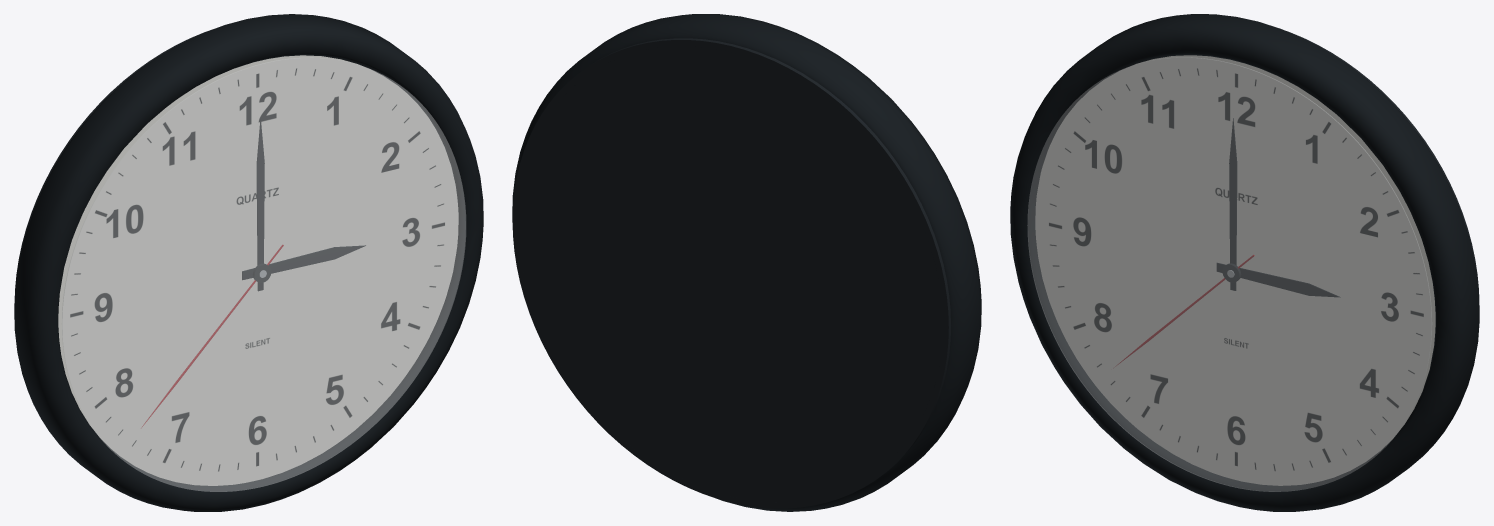
Rendered from relogio_parede.glb.
The picture shows the model from 3 angles, left to right: view 1: azimuth 30°, elevation 25°; view 2: azimuth 150°, elevation 25°; view 3: azimuth 330°, elevation 25°; orthographic projection.
Parts seen in each view (by area): view 1: Vidro frontal, Mostrador, Aro preto do relogio, Ponteiro de minutos, Ponteiro de horas, Carcaca posterior; view 2: Carcaca posterior, Aro preto do relogio; view 3: Vidro frontal, Mostrador, Aro preto do relogio, Ponteiro de minutos, Ponteiro de horas, Carcaca posterior.
Boxes of the visible parts, bbox=[...] form: Vidro frontal: bbox=[62, 57, 465, 491]; Mostrador: bbox=[58, 55, 458, 485]; Aro preto do relogio: bbox=[14, 14, 483, 511]; Ponteiro de minutos: bbox=[256, 118, 264, 291]; Ponteiro de horas: bbox=[242, 245, 365, 279]; Carcaca posterior: bbox=[14, 31, 207, 297]; Carcaca posterior: bbox=[512, 38, 950, 508]; Aro preto do relogio: bbox=[512, 14, 981, 511]; Vidro frontal: bbox=[1027, 57, 1431, 491]; Mostrador: bbox=[1035, 55, 1435, 485]; Aro preto do relogio: bbox=[1010, 14, 1479, 511]; Ponteiro de minutos: bbox=[1229, 118, 1237, 290]; Ponteiro de horas: bbox=[1216, 263, 1340, 297]; Carcaca posterior: bbox=[1286, 31, 1479, 294].
Size of the model in its own units: 0.31 by 0.31 by 0.0375.
7 materials, 1 textured.
